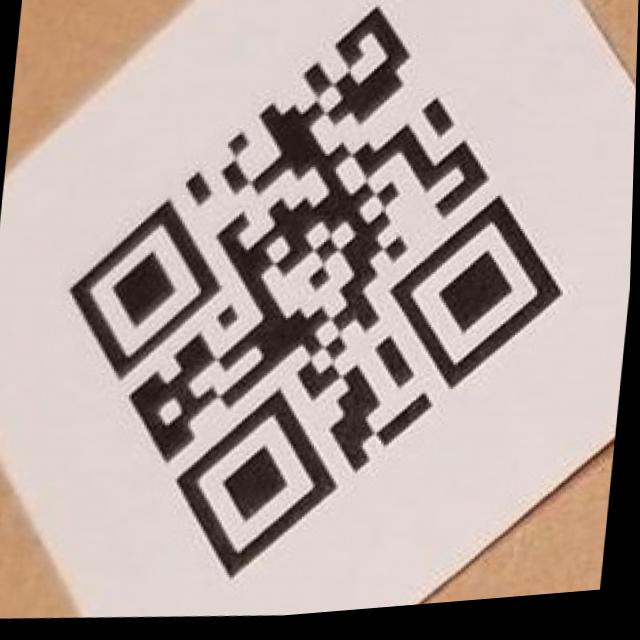QR_CODE: (40, 0, 593, 617)
